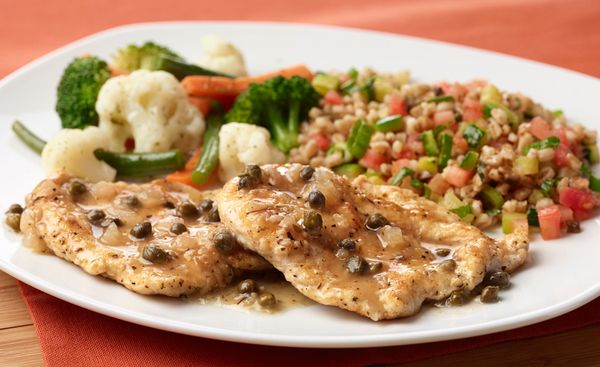curry: (222, 75, 324, 154), (55, 55, 111, 129), (95, 148, 187, 182)
